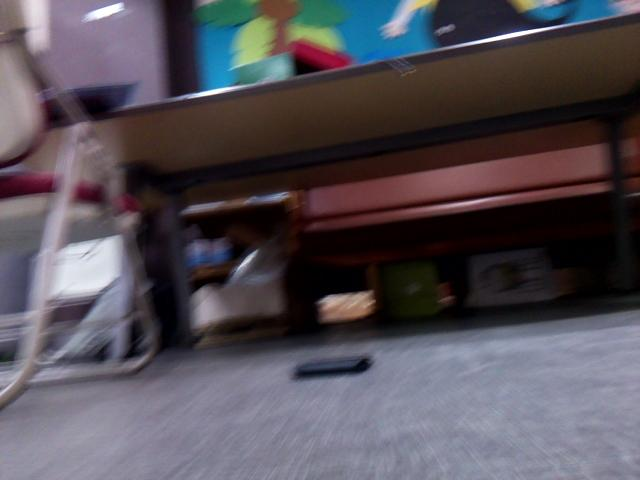wallet: (292, 347, 377, 383)
